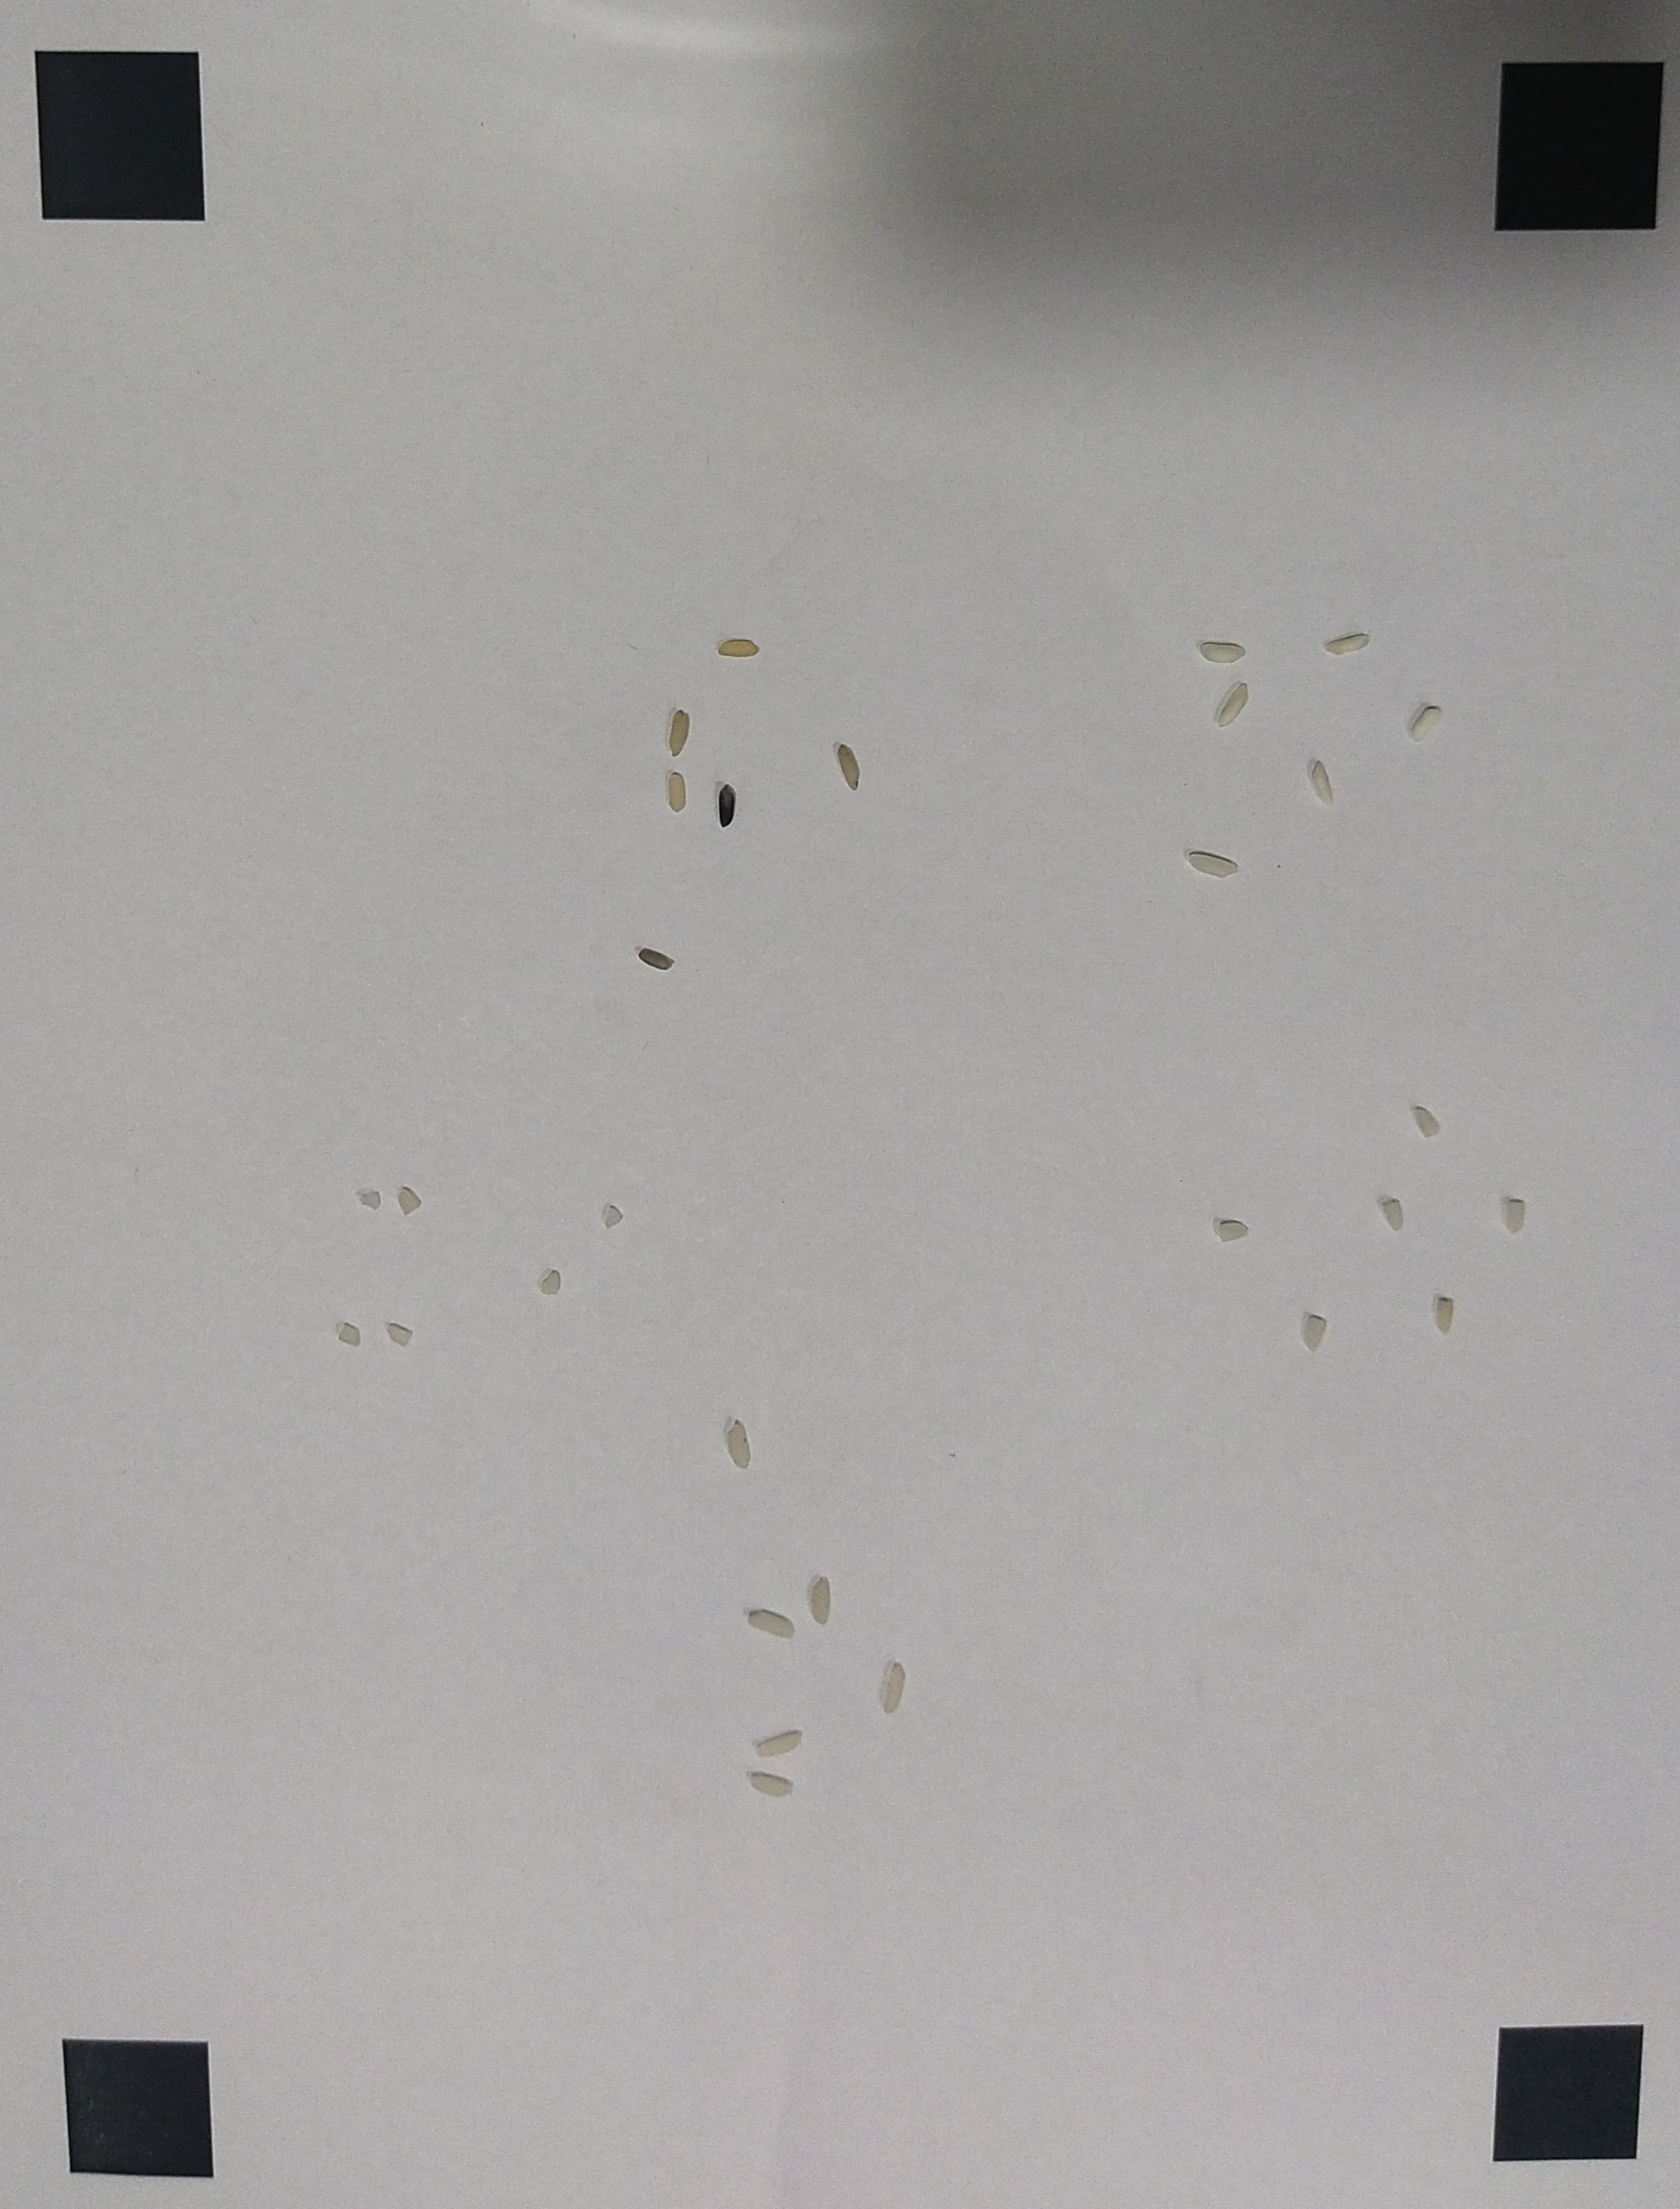broken: (386, 1316, 413, 1344), (399, 1184, 422, 1216), (604, 1203, 626, 1230), (339, 1322, 362, 1346), (542, 1270, 561, 1299), (360, 1187, 383, 1209)
chalky: (1218, 681, 1249, 730), (1186, 852, 1241, 879), (1309, 755, 1334, 806), (1324, 632, 1369, 658), (1412, 708, 1442, 743), (1198, 642, 1251, 662)
damage: (1505, 1186, 1526, 1239), (1302, 1311, 1327, 1355), (1412, 1104, 1444, 1138), (1382, 1196, 1410, 1233), (1216, 1217, 1253, 1242), (1435, 1297, 1456, 1334)
discolor: (667, 709, 694, 757), (836, 741, 861, 790), (635, 944, 676, 970), (716, 785, 738, 829), (718, 637, 762, 658), (669, 773, 686, 813)
good: (748, 1607, 796, 1641), (748, 1764, 796, 1796), (725, 1417, 754, 1468), (810, 1574, 835, 1630), (757, 1727, 806, 1756), (884, 1655, 905, 1711)
